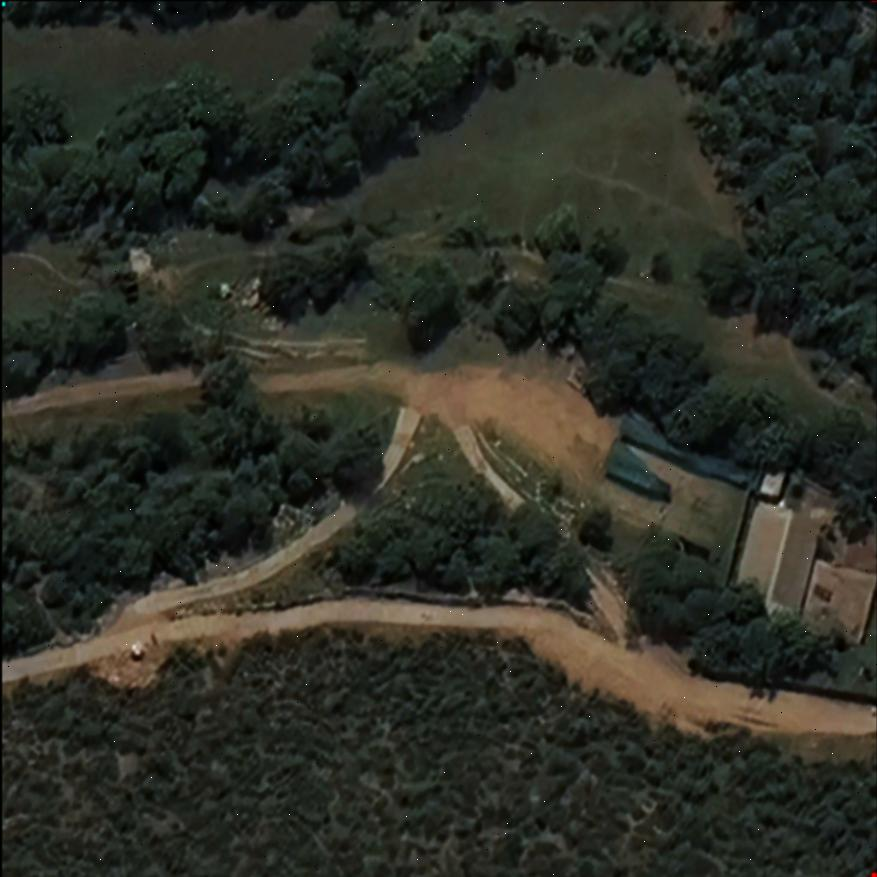Solarpanel: (811, 583, 833, 603)
